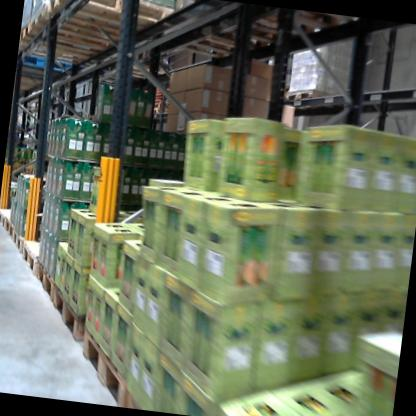pallet: (30, 0, 173, 50), (19, 18, 136, 72), (68, 322, 135, 406), (44, 0, 177, 38), (43, 275, 100, 346), (279, 80, 352, 117), (27, 249, 58, 305), (14, 233, 52, 276), (0, 207, 28, 242), (124, 389, 166, 412), (6, 225, 28, 257), (1, 216, 16, 240)
